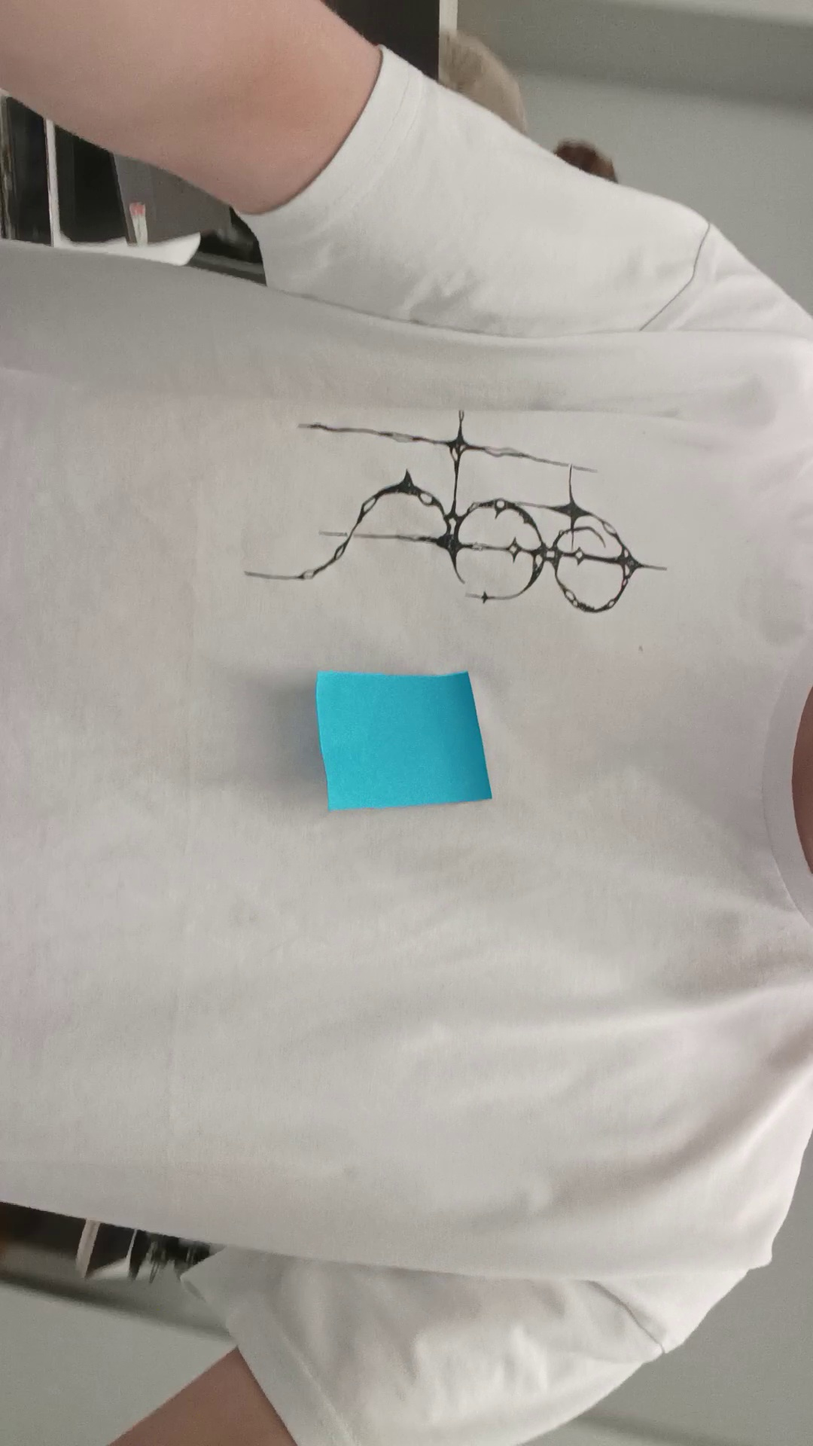marker: (316, 673, 491, 808)
